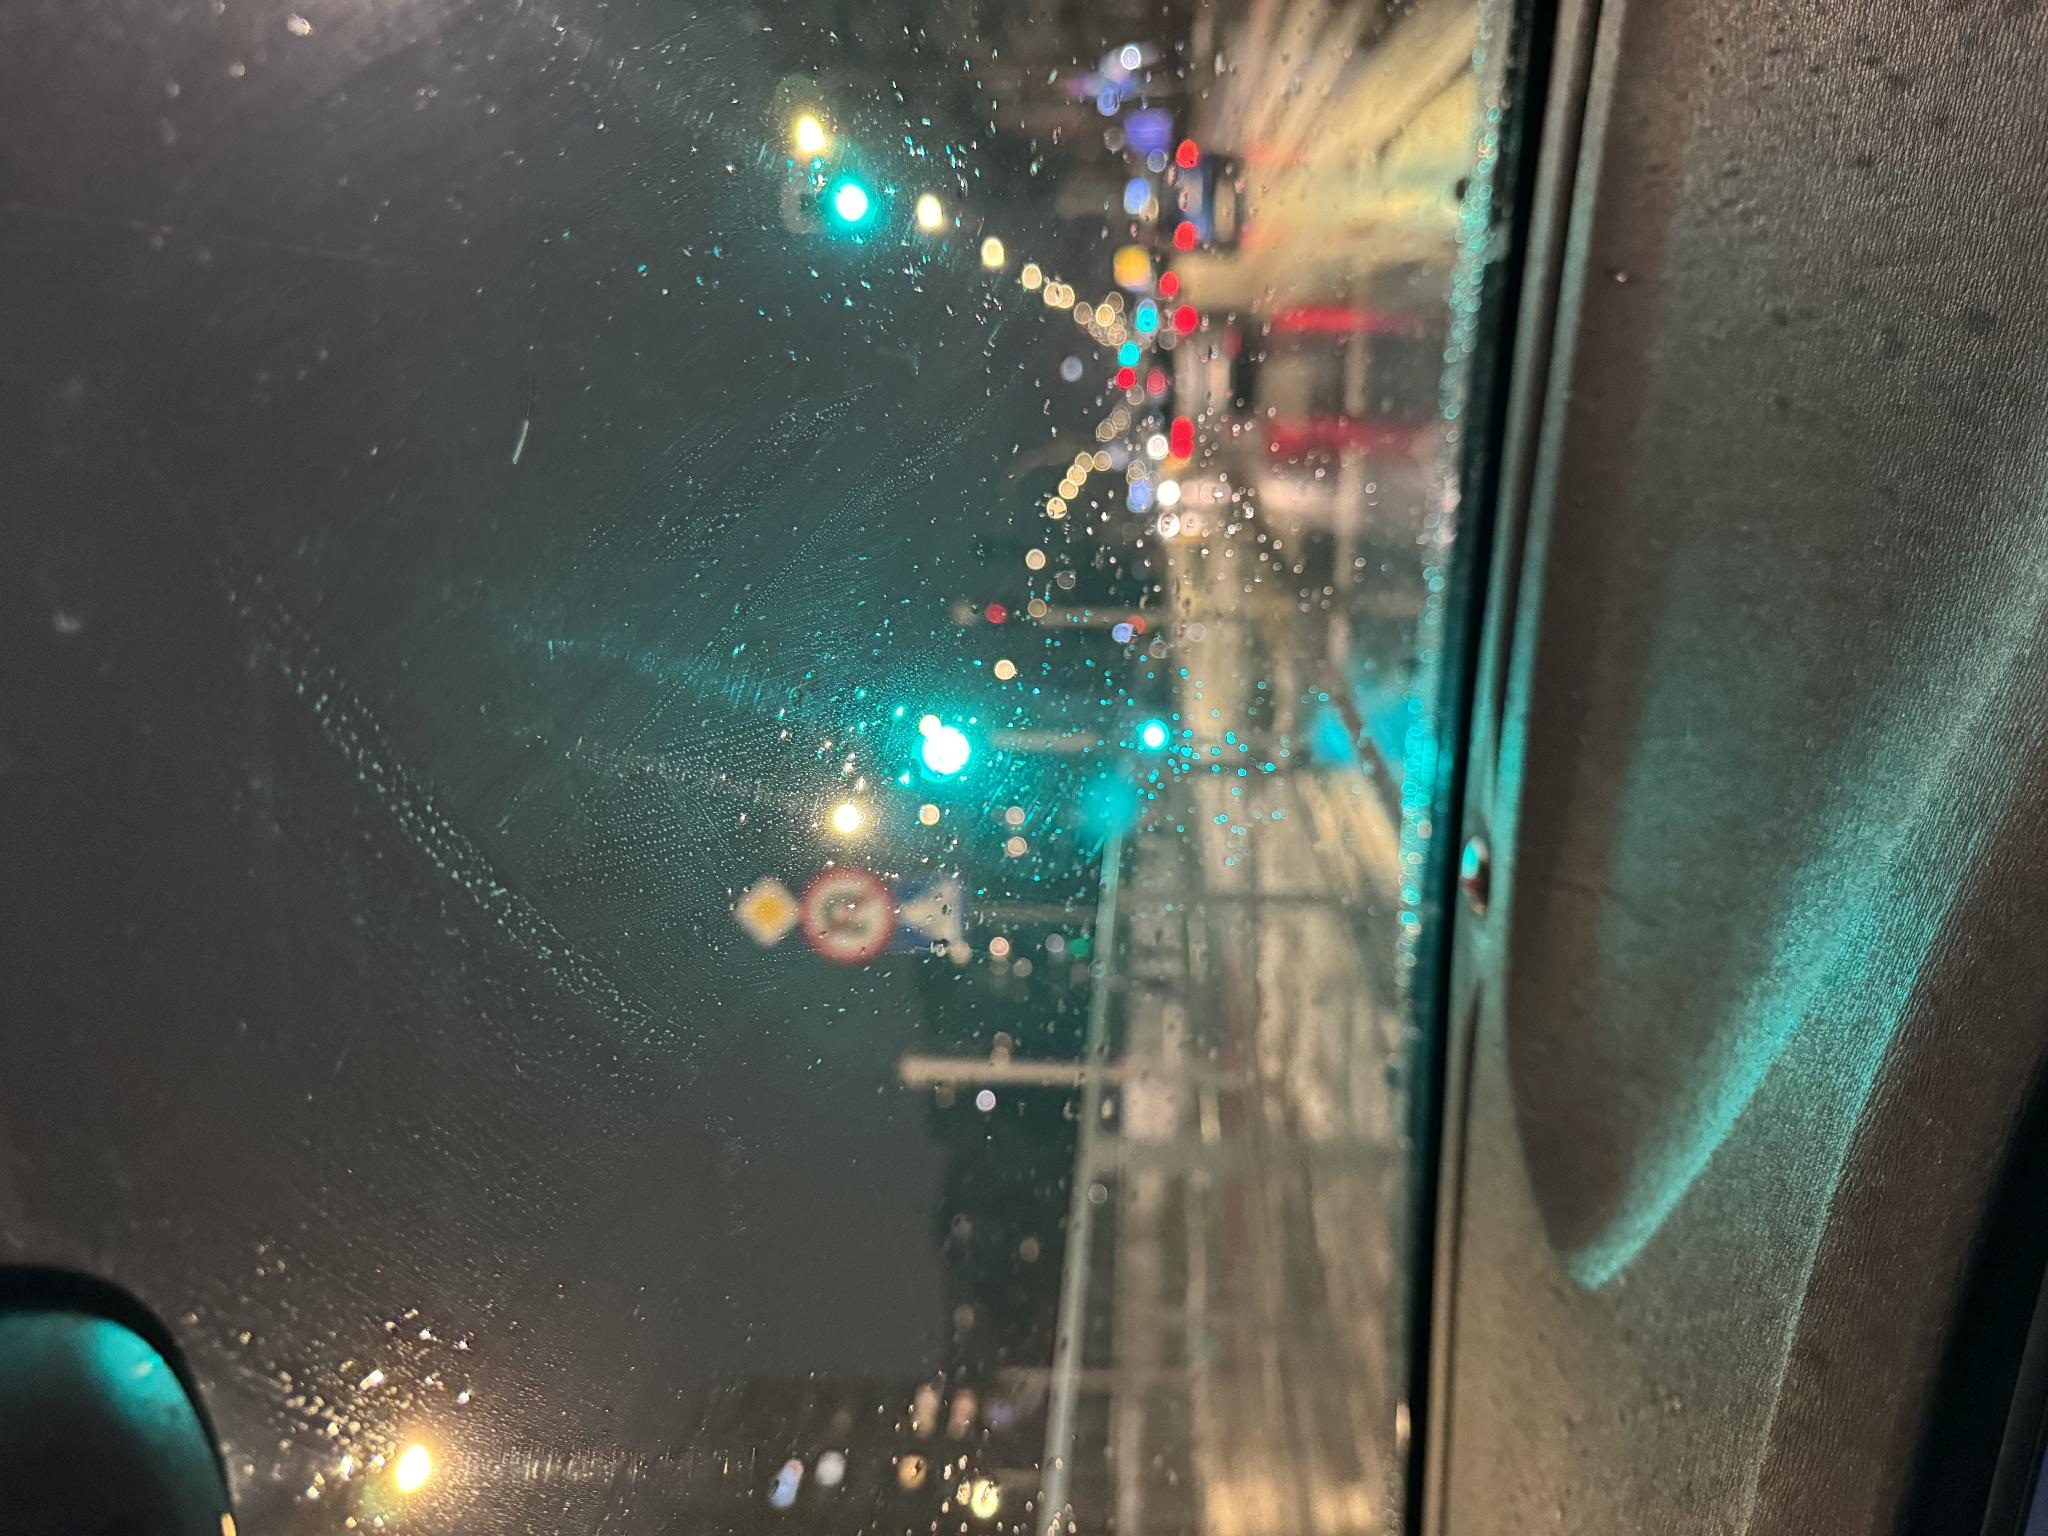information: (585, 895, 664, 963)
mandatory: (587, 731, 663, 800)
prohibitory: (569, 800, 671, 897)
